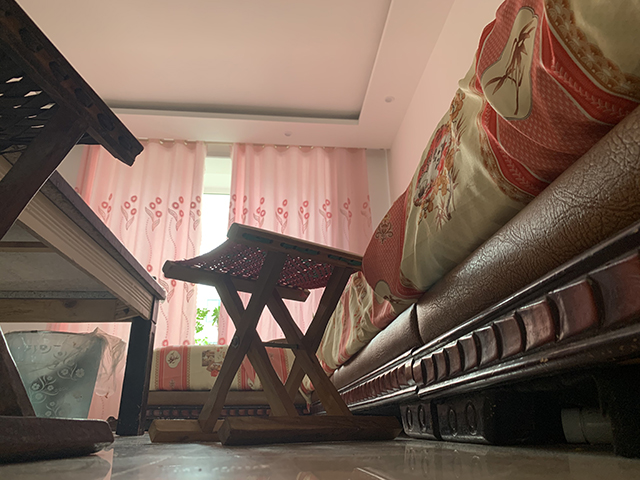curtain: (220, 145, 378, 224), (151, 141, 206, 343)
sofa: (360, 1, 640, 447), (151, 339, 313, 419)
stool: (1, 1, 145, 458), (147, 221, 405, 447)
table: (2, 145, 167, 439)
trashcan: (2, 329, 108, 420)
